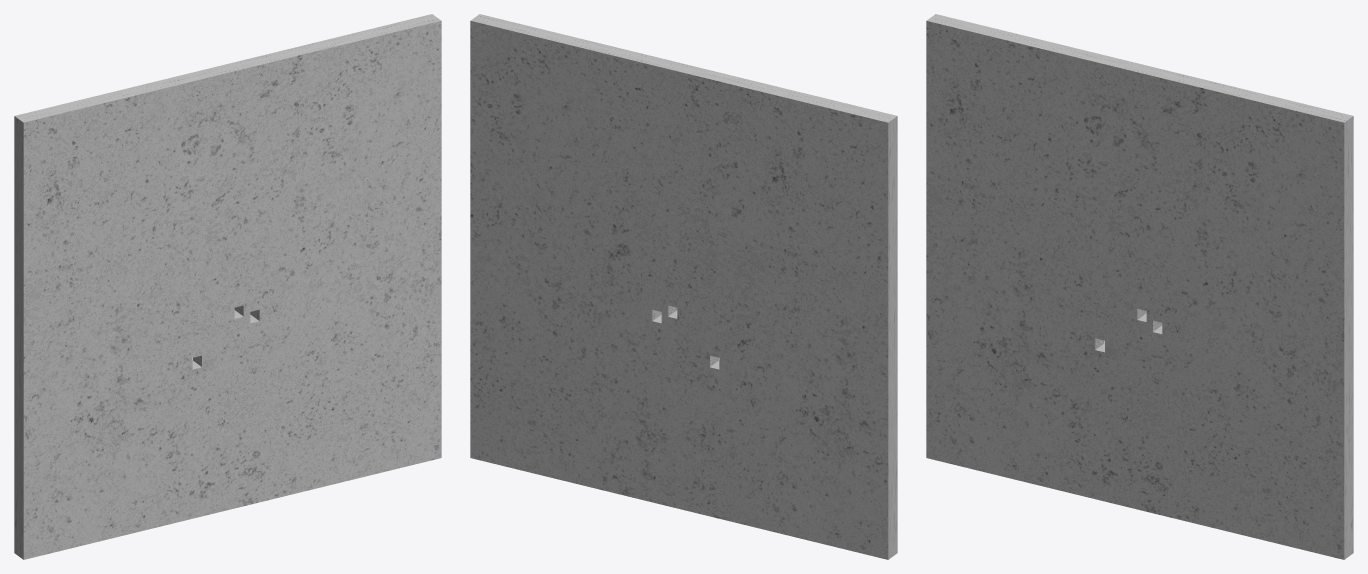
The model's file is wall.glb.
3 views of the same model, side by side, from view 1: azimuth 30°, elevation 25°; view 2: azimuth 150°, elevation 25°; view 3: azimuth 330°, elevation 25° (orthographic).
Parts seen in each view (by area): view 1: Cube.007; view 2: Cube.007; view 3: Cube.007.
Boxes of the visible parts, x1=… form: Cube.007: x1=14, y1=14, x2=441, y2=559; Cube.007: x1=470, y1=14, x2=897, y2=559; Cube.007: x1=926, y1=14, x2=1353, y2=559.
Size of the model in its own units: 26.88 by 26.88 by 1.03.
Materials: 1 (1 with a texture image).
